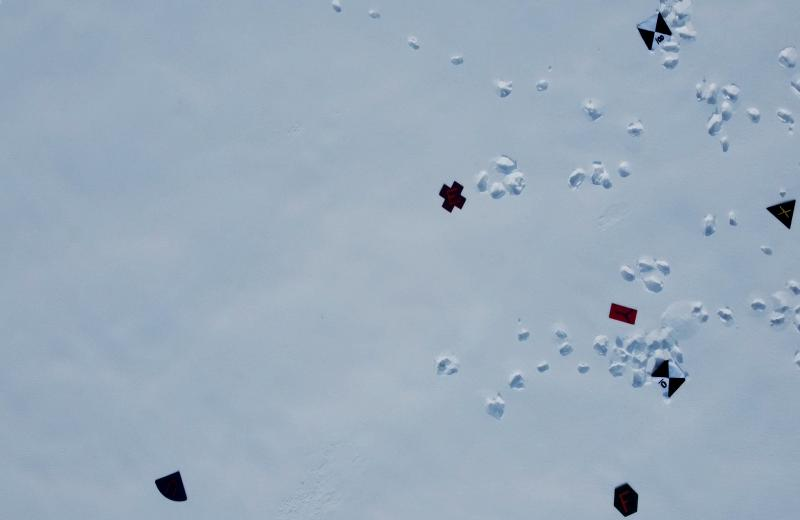Cross: (438, 179, 466, 214)
Hexagon: (612, 482, 640, 520)
Quarter Circle: (154, 466, 190, 504)
Rectangle: (608, 300, 638, 325)
Triangle: (765, 198, 796, 229)
